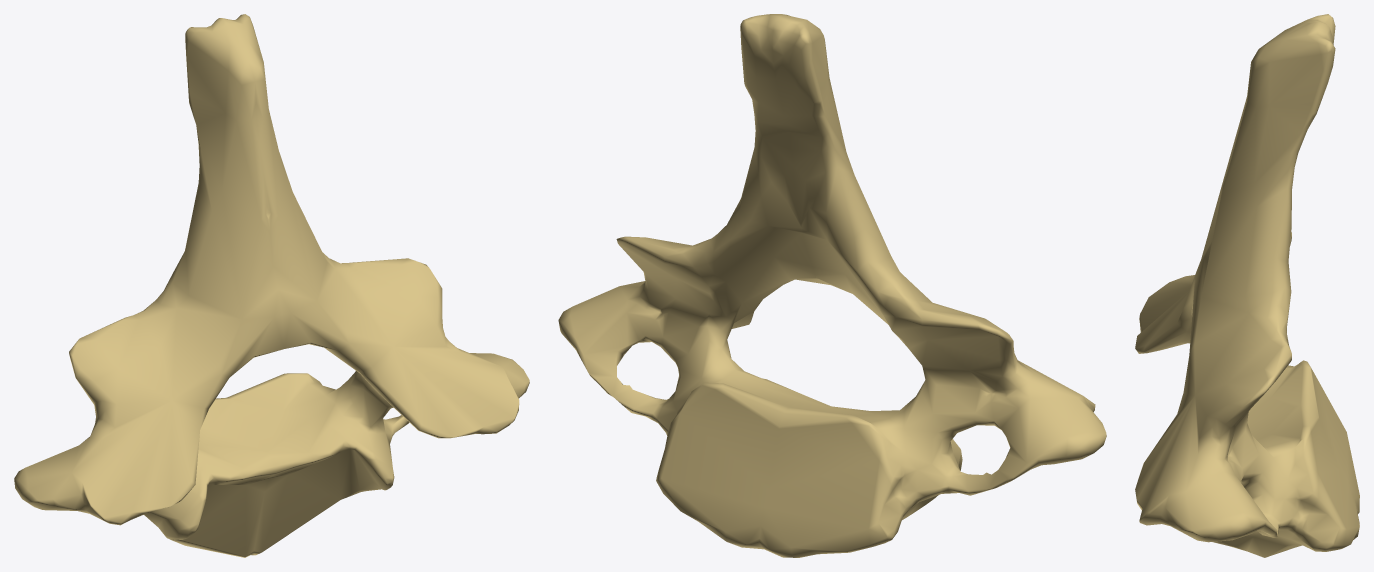
3 views of the same model, side by side, from view 1: azimuth 30°, elevation 25°; view 2: azimuth 150°, elevation 25°; view 3: azimuth 270°, elevation 25° (orthographic). The views are drawn at different scales.
Visible parts, largest first — view 1: 第七颈椎; view 2: 第七颈椎; view 3: 第七颈椎.
Boxes of the visible parts, bbox=[...] form: 第七颈椎: bbox=[14, 14, 529, 557]; 第七颈椎: bbox=[558, 14, 1106, 557]; 第七颈椎: bbox=[1135, 14, 1359, 557].
Bounding box in the file's own units: 0.1049 × 0.1036 × 0.0398.
